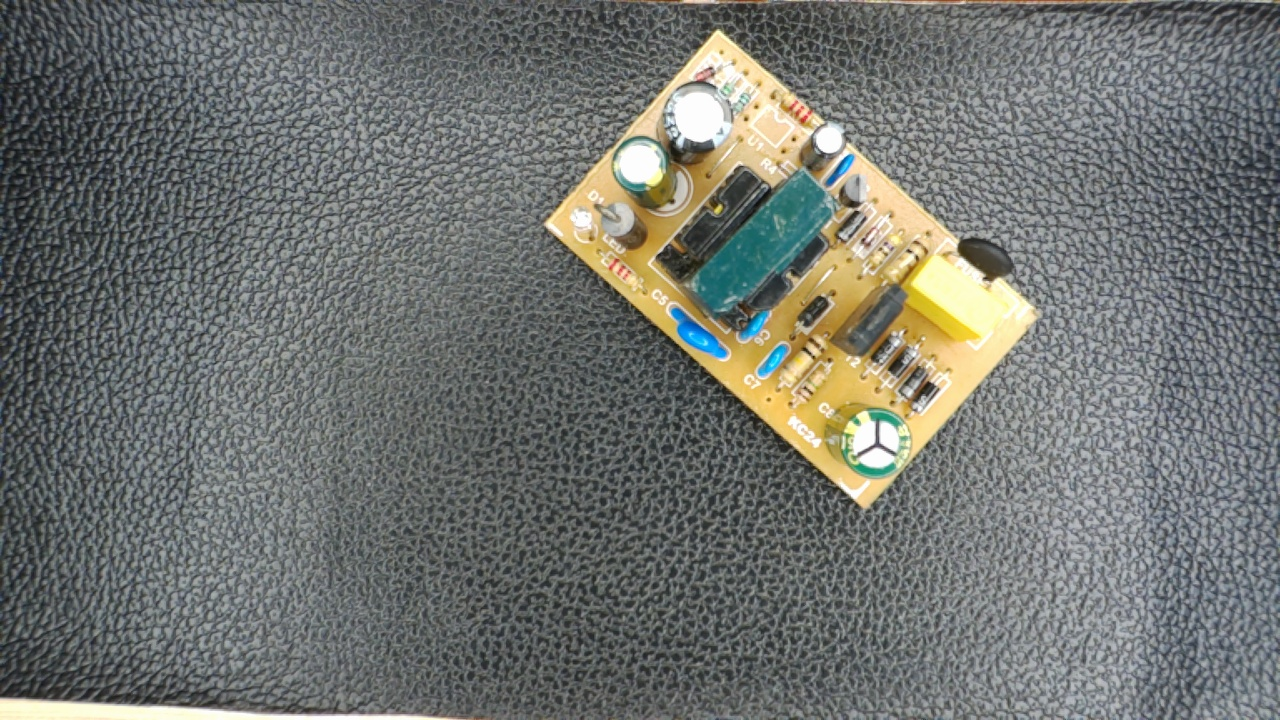fuse: (938, 230, 1019, 293)
hv_capacitor: (822, 398, 915, 479)
mov: (659, 300, 732, 363)
